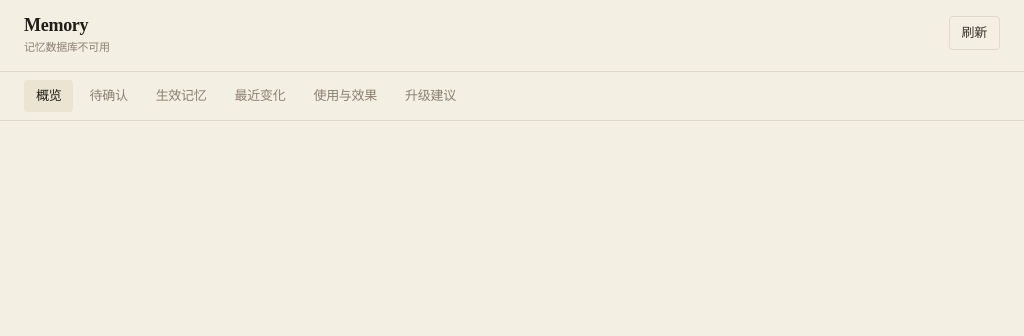
Test: MemoryPage › says the nightly job has not run instead of showing an empty report
Click the button "升级建议".
click(430, 96)  # box [393, 80, 468, 112]
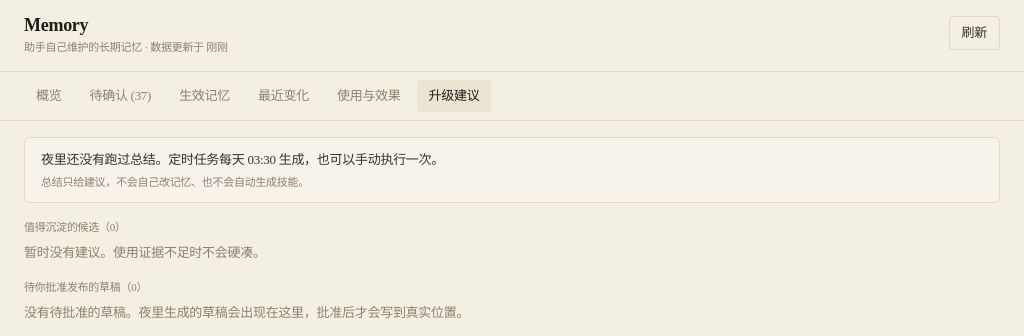
Result: the text "夜里还没有跑过总结" is shown at [41, 152, 444, 167]
